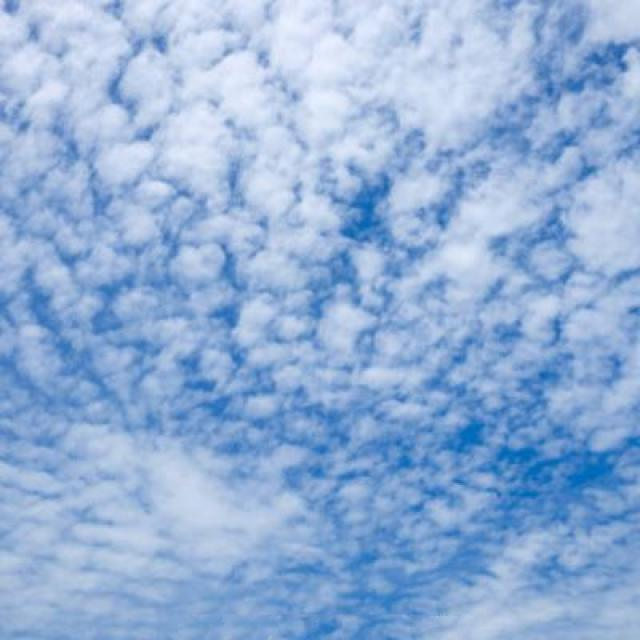Cs: (44, 36, 640, 546)
